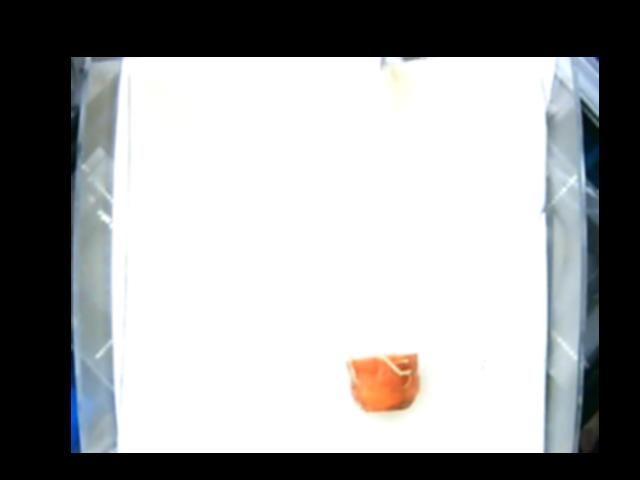Carrot: (344, 352, 419, 415)
